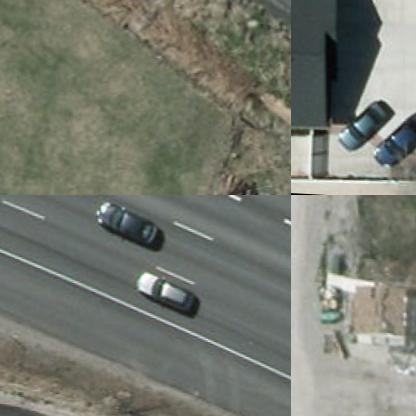car: (92, 198, 160, 247), (364, 106, 415, 170), (336, 98, 390, 158), (135, 274, 198, 316)
